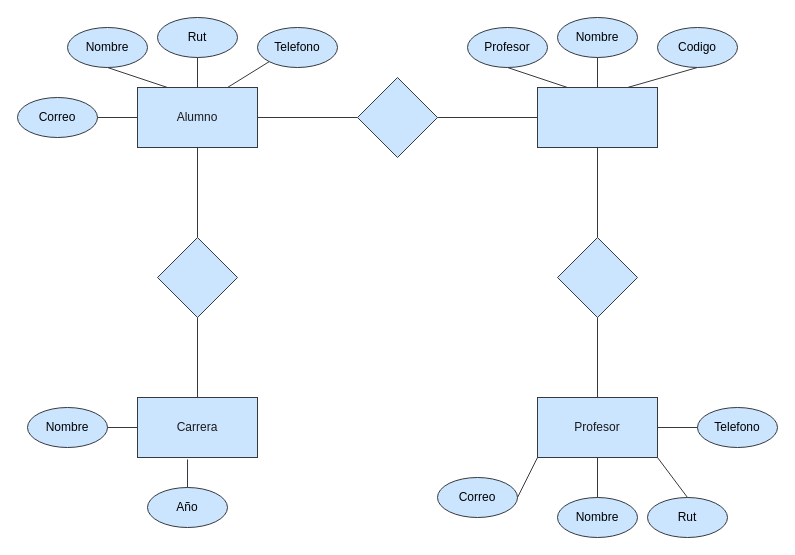
Some shapes in this 795 by 555 pixel diagram are drawn without their labels. The centre of each missing label's shape, as x and y in pixels:
"Cursa" belongs at (397,117).
"Estudia" belongs at (197,277).
"Imparte" belongs at (597,277).
"Materia" belongs at (597,117).
